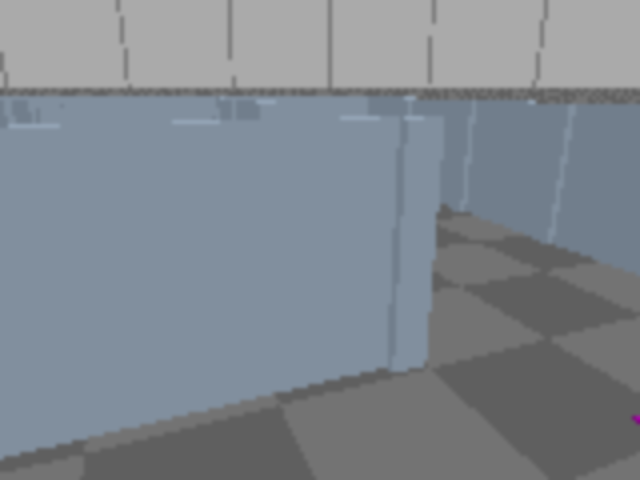goal_zone: (633, 371, 638, 478)
